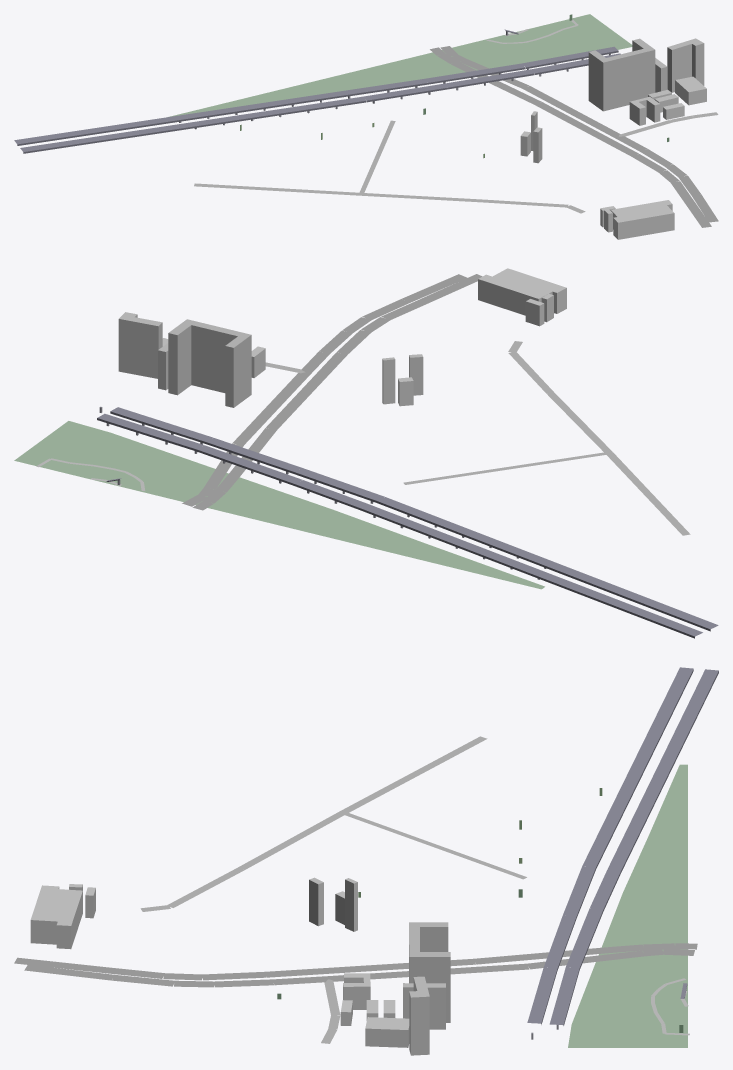
3 renders of one model, top to bottom at view 1: azimuth 30°, elevation 25°; view 2: azimuth 150°, elevation 25°; view 3: azimuth 270°, elevation 25°, orthographic. The views are drawn at different scales.
Size of the model in its own units: 678 by 55.17 by 526.
